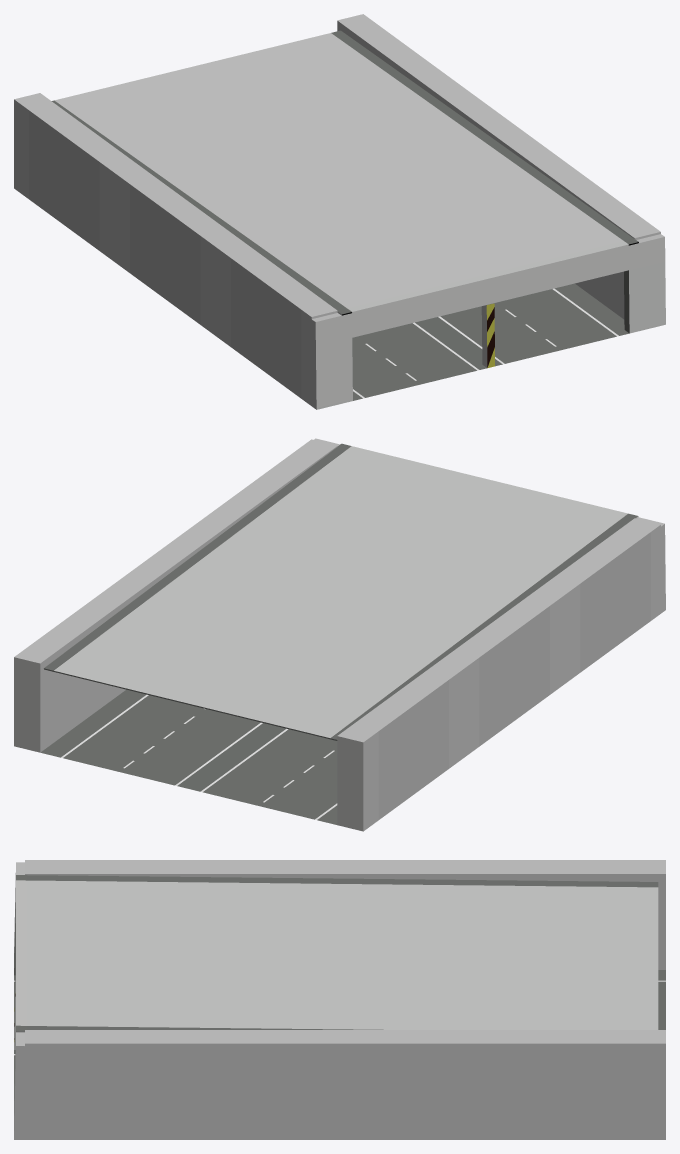
Rendered from Double_Tunnel.fbx.
3 views of the same model, one above another, from view 1: azimuth 30°, elevation 25°; view 2: azimuth 150°, elevation 25°; view 3: azimuth 270°, elevation 25° (orthographic). The views are drawn at different scales.
Parts seen in each view (by area): view 1: Plane; view 2: Plane; view 3: Plane.
Part boxes in pixels (x1,y1,x2,y2): Plane: (14, 14, 665, 409); Plane: (14, 438, 665, 831); Plane: (14, 860, 665, 1139).
Size of the model in its own units: 30 by 7.32 by 45.
